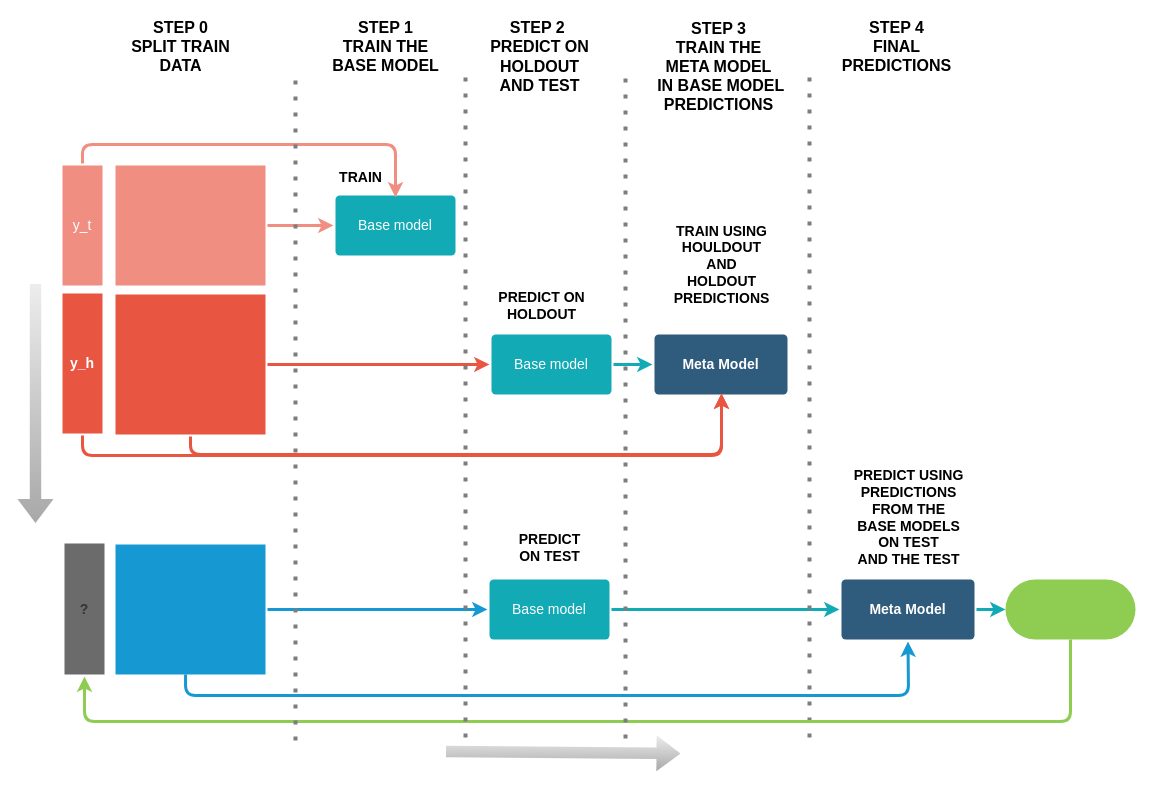
Some shapes in this 1153 by 788 pixel diagram are drawn without their labels. Here are the shapes that lost their labels. From the top down, the centre of each, then its label:
At (190,225): "X_train".
At (190,364): "X_holdout".
At (190,609): "X_test".
At (1070,609): "Blending Predicion".
